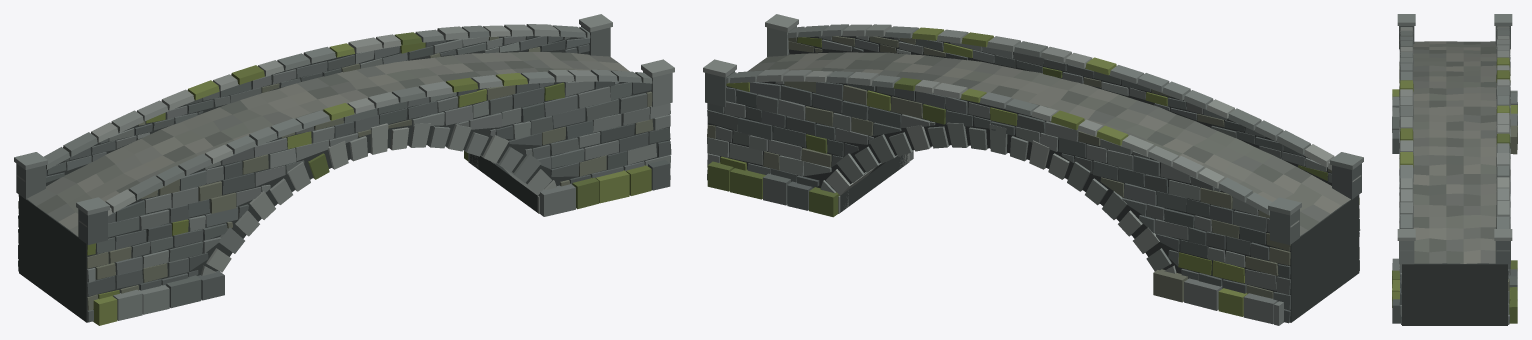
File: river_bridge.glb
The picture shows the model from 3 angles, left to right: view 1: azimuth 30°, elevation 25°; view 2: azimuth 150°, elevation 25°; view 3: azimuth 270°, elevation 25°; orthographic projection. The views are drawn at different scales.
Parts seen in each view (by area): view 1: river_bridge; view 2: river_bridge; view 3: river_bridge.
Boxes of the visible parts, <box> form: river_bridge: <box>14,14,674,325</box>; river_bridge: <box>703,14,1363,325</box>; river_bridge: <box>1392,14,1517,325</box>.
Bounding box in the file's own units: 22.15 × 5.42 × 5.27.
